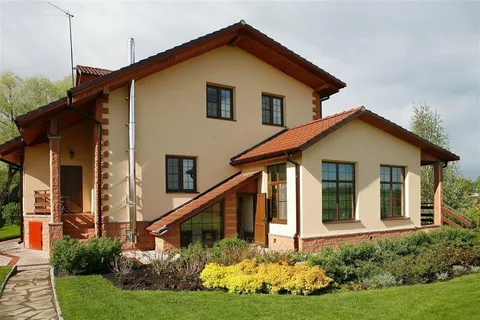private_hause: (25, 27, 349, 251)
